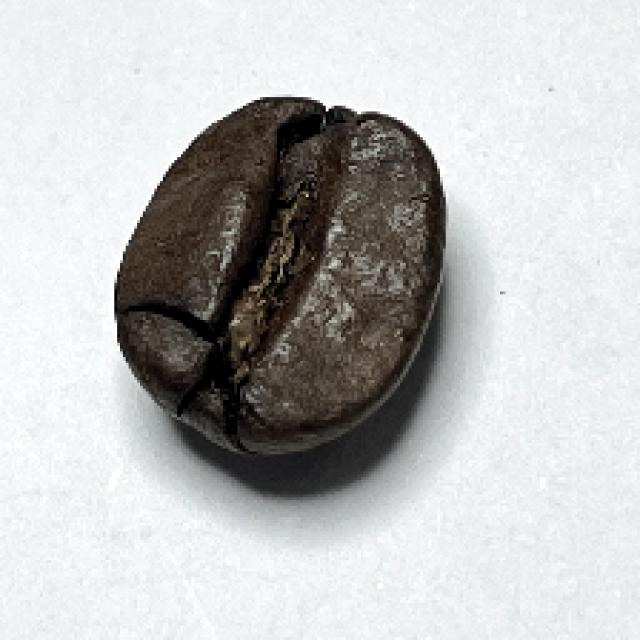bean: (106, 92, 451, 460)
